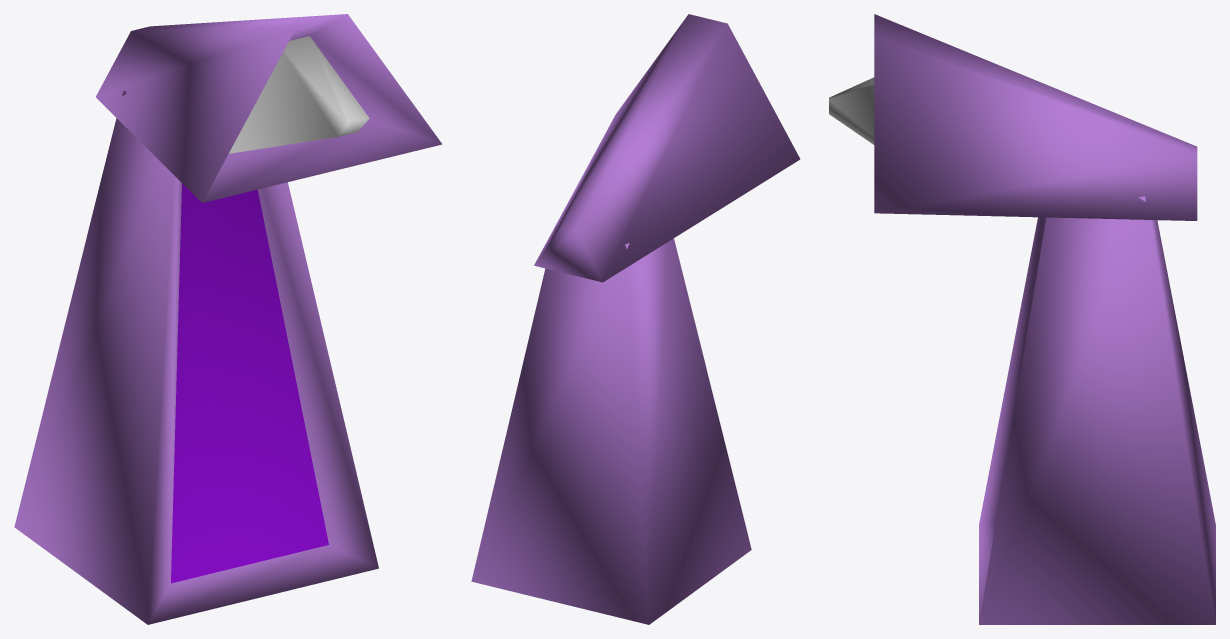
File: zappingCannon.fbx
The picture shows the model from 3 angles, left to right: view 1: azimuth 30°, elevation 25°; view 2: azimuth 150°, elevation 25°; view 3: azimuth 270°, elevation 25°; orthographic projection. The views are drawn at different scales.
Parts seen in each view (by area): view 1: ZappingCannon; view 2: ZappingCannon; view 3: ZappingCannon.
Part boxes in pixels (<box>): ZappingCannon: <box>14,14,442,624</box>; ZappingCannon: <box>471,14,800,624</box>; ZappingCannon: <box>829,14,1215,624</box>.
Size of the model in its own units: 0.1569 by 0.3866 by 0.2465.
